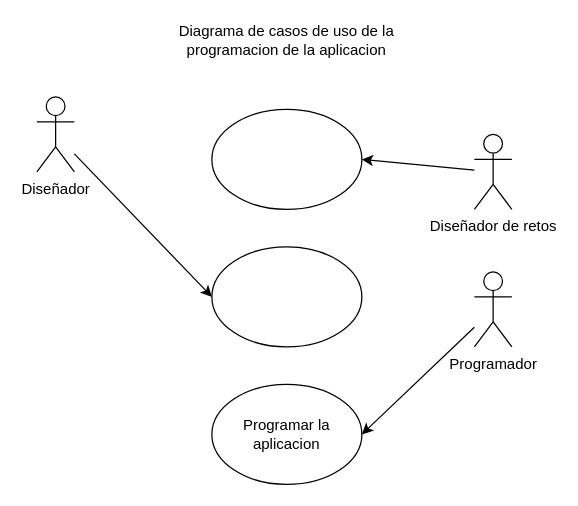
This 578x506 diagram has some shape labels left out. Each missing label, with the box of its shape:
Crear retos: (211, 108, 362, 209)
Diseñar la interfaz: (211, 246, 362, 347)
